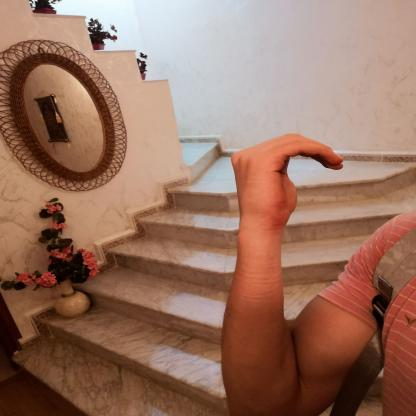HAA: (217, 124, 361, 230)
